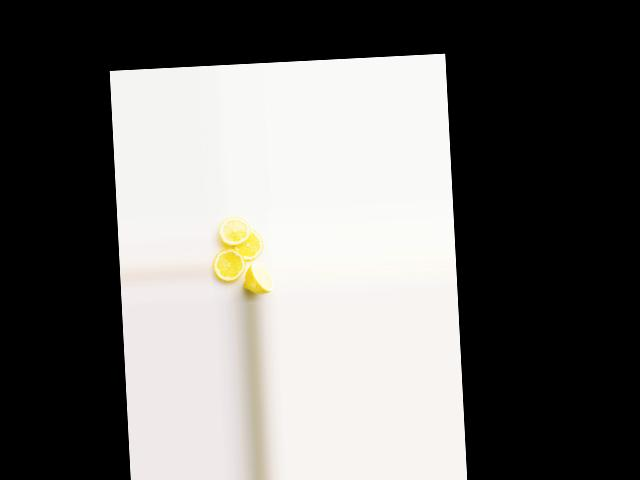lemon: (245, 261, 275, 296)
